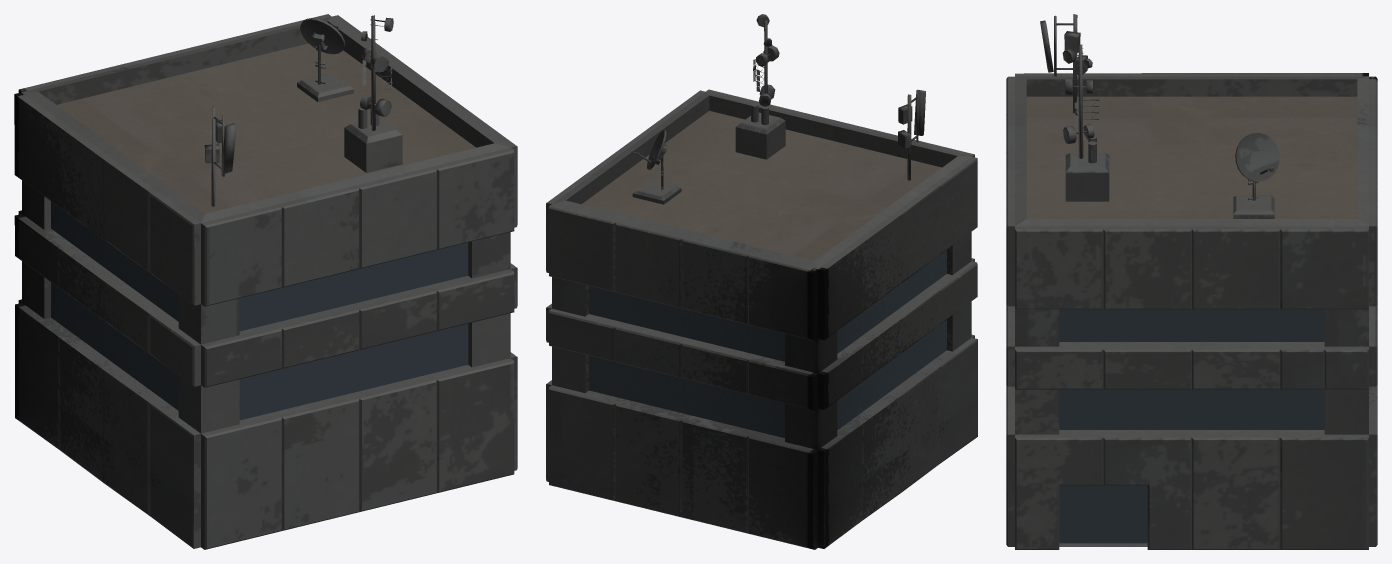
The model's file is building_0.fbx.
3 views of the same model, side by side, from view 1: azimuth 30°, elevation 25°; view 2: azimuth 150°, elevation 25°; view 3: azimuth 270°, elevation 25° (orthographic). The views are drawn at different scales.
Visible parts, largest first — view 1: final; view 2: final; view 3: final.
Part boxes in pixels (x1,y1,x2,y2): final: (14,14,517,549); final: (546,14,977,549); final: (1006,14,1377,549).
Bounding box in the file's own units: 2.1 × 2.82 × 2.1.
1 material, 1 textured.
